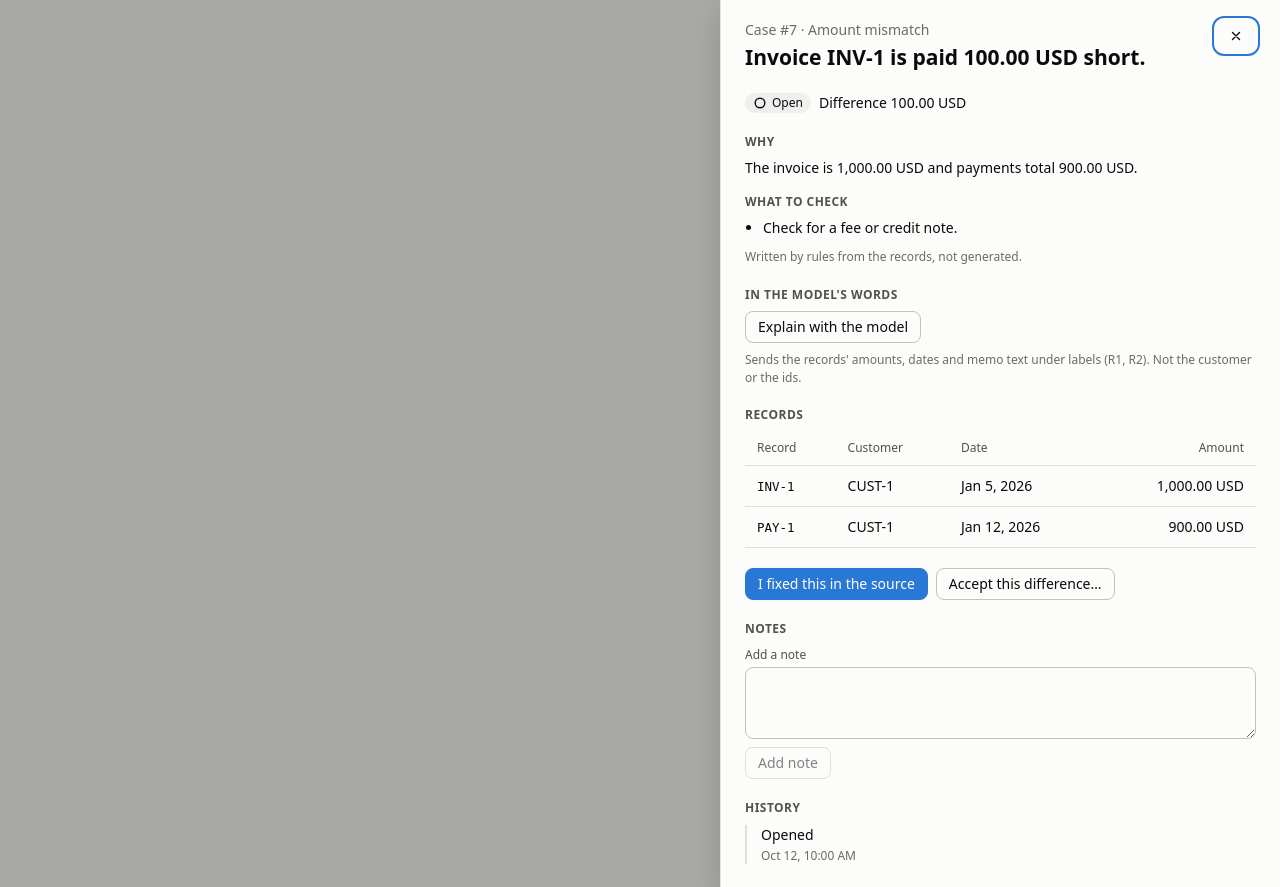
Test: ExplanationSection › asks once and shows what comes back
Click the button "Explain with the model".
click(833, 327)  # box top-left (745, 311), bottom-right (921, 343)
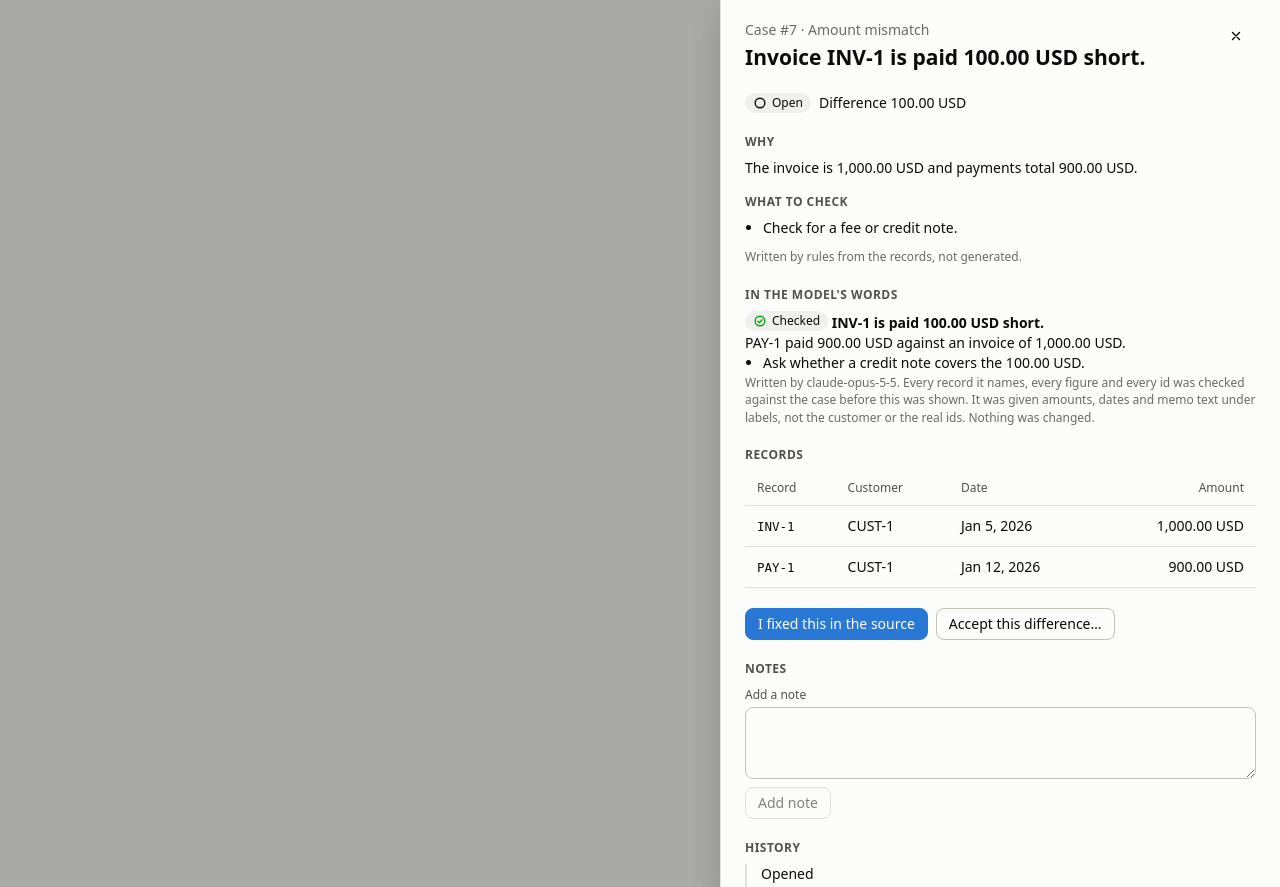
Now the text "Checked" is shown, box top-left (745, 311), bottom-right (828, 331)
Now the button "Explain with the model" is gone
